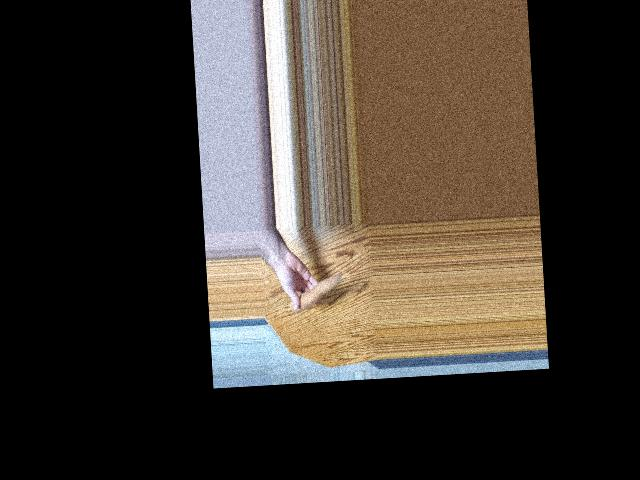sweet_potato: (286, 273, 342, 312)
